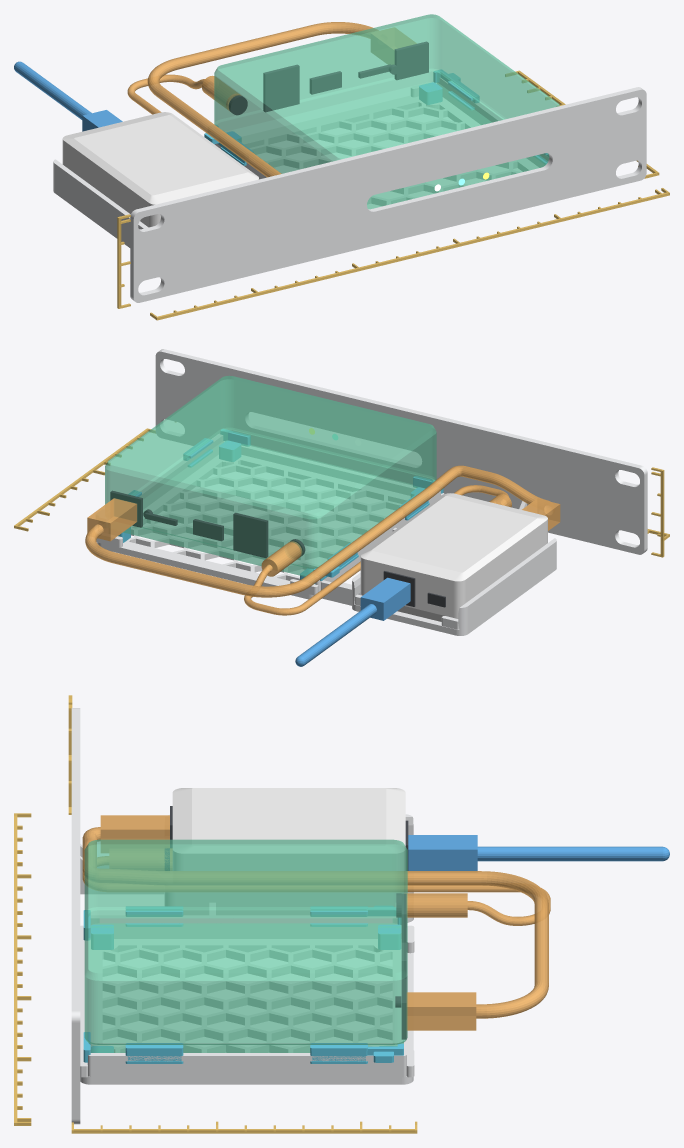
Rendered from home-assistant-green-rack-compact-no_shutter.glb.
3 renders of one model, top to bottom at view 1: azimuth 30°, elevation 25°; view 2: azimuth 150°, elevation 25°; view 3: azimuth 270°, elevation 25°, orthographic. The views are drawn at different scales.
Visible parts, largest first — view 1: White rack mount, Home Assistant Green, TP-Link TL-PD30G-M2, Green tray — standard, Ethernet cable — bend-radius warning, Home Assistant Green connector faces, 10 mm dimension rulers, TP-Link cradle side walls, Incoming PoE cable, Green retention — segmented rails + rear latch, DC cable — bend-radius warning, Home Assistant logo (+1 smaller); view 2: Home Assistant Green, White rack mount, Green tray — standard, TP-Link TL-PD30G-M2, Ethernet cable — bend-radius warning, TP-Link cradle side walls, Home Assistant Green connector faces, DC cable — bend-radius warning, Incoming PoE cable, Green retention — segmented rails + rear latch, 10 mm dimension rulers, TP-Link cradle floor (+1 smaller); view 3: Home Assistant Green, Green tray — standard, TP-Link TL-PD30G-M2, Ethernet cable — bend-radius warning, Green retention — segmented rails + rear latch, DC cable — bend-radius warning, Incoming PoE cable, White rack mount, 10 mm dimension rulers, TP-Link cradle side walls, Home Assistant Green connector faces.
Boxes of the visible parts, x1,y1,x2,y2 form: White rack mount: (130, 87, 646, 302); Home Assistant Green: (214, 14, 559, 209); TP-Link TL-PD30G-M2: (62, 112, 258, 227); Green tray — standard: (215, 78, 548, 205); Ethernet cable — bend-radius warning: (147, 22, 416, 177); Home Assistant Green connector faces: (228, 41, 428, 115); 10 mm dimension rulers: (117, 70, 669, 320); TP-Link cradle side walls: (53, 159, 148, 241); Incoming PoE cable: (14, 61, 122, 131); Green retention — segmented rails + rear latch: (204, 69, 548, 165); DC cable — bend-radius warning: (127, 74, 240, 114); Home Assistant logo: (240, 204, 280, 252); Home Assistant Green: (105, 375, 436, 576); White rack mount: (155, 349, 647, 605); Green tray — standard: (96, 434, 444, 599); TP-Link TL-PD30G-M2: (360, 493, 547, 621); Ethernet cable — bend-radius warning: (85, 465, 560, 597); TP-Link cradle side walls: (352, 538, 556, 630); Home Assistant Green connector faces: (110, 490, 305, 557); DC cable — bend-radius warning: (244, 485, 511, 615); Incoming PoE cable: (295, 577, 410, 666); Green retention — segmented rails + rear latch: (118, 429, 443, 583); 10 mm dimension rulers: (14, 428, 669, 557); TP-Link cradle floor: (352, 563, 556, 635); Home Assistant Green: (84, 839, 407, 1052); Green tray — standard: (80, 915, 414, 1084); TP-Link TL-PD30G-M2: (172, 788, 405, 870); Ethernet cable — bend-radius warning: (82, 815, 548, 1030); Green retention — segmented rails + rear latch: (83, 906, 403, 1063); DC cable — bend-radius warning: (82, 848, 550, 925); Incoming PoE cable: (408, 835, 669, 870); White rack mount: (71, 708, 215, 1124); 10 mm dimension rulers: (14, 695, 417, 1133); TP-Link cradle side walls: (165, 814, 413, 914); Home Assistant Green connector faces: (395, 893, 406, 1039).
Size of what is drawn, in the model's own units: 268 by 43 by 227.
